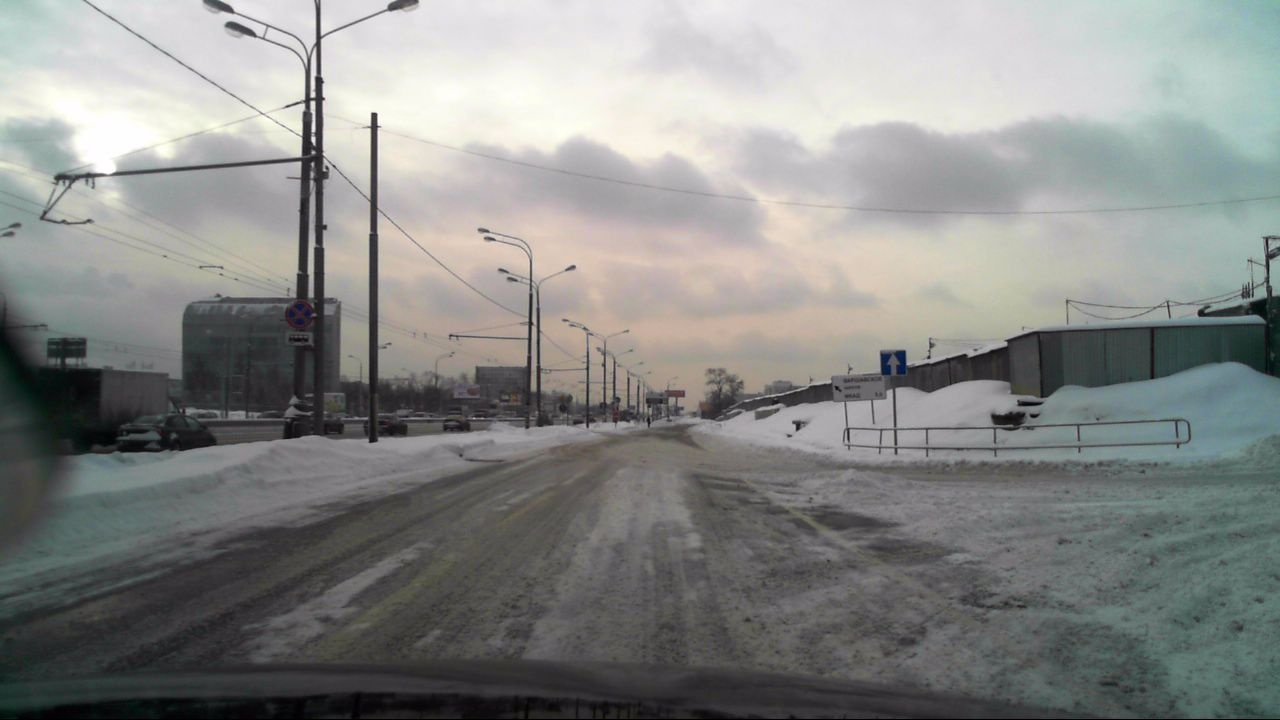No Parking: (285, 302, 315, 329)
